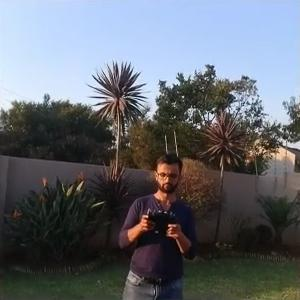follow: (110, 142, 202, 299)
